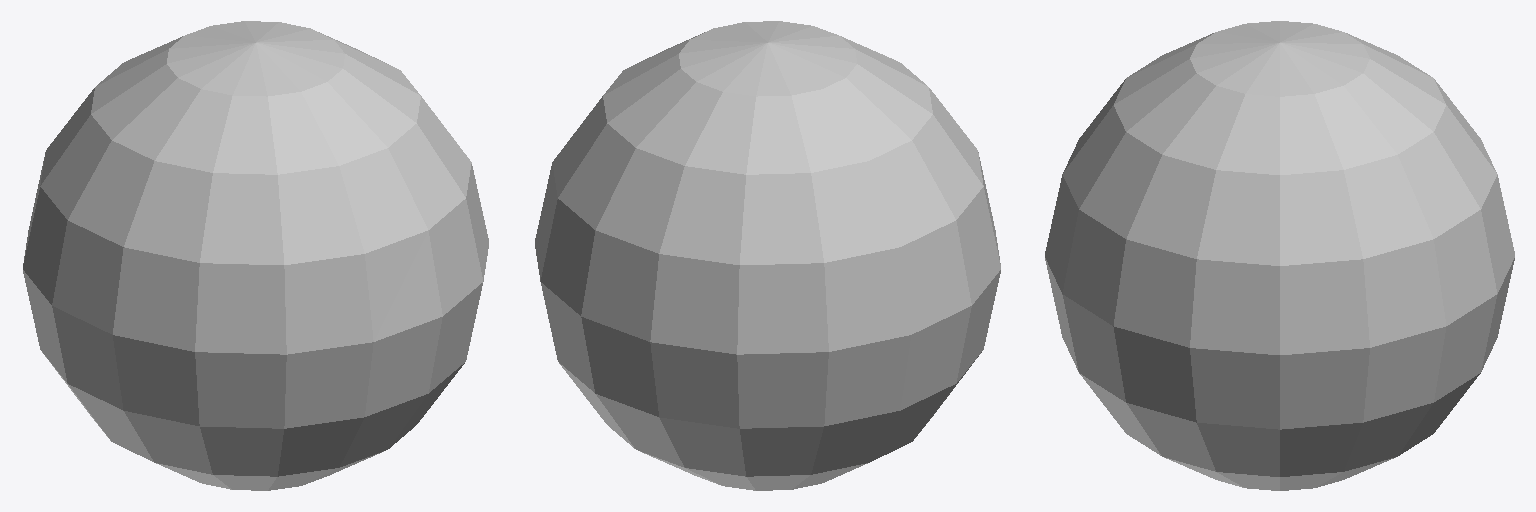
The model's file is bola8.obj.
3 renders of one model, left to right at view 1: azimuth 30°, elevation 25°; view 2: azimuth 150°, elevation 25°; view 3: azimuth 270°, elevation 25°, orthographic.
Parts seen in each view (by area): view 1: POOL_TABLE.032; view 2: POOL_TABLE.032; view 3: POOL_TABLE.032.
Boxes of the visible parts, <box> form: POOL_TABLE.032: <box>23,21,488,490</box>; POOL_TABLE.032: <box>535,21,1000,490</box>; POOL_TABLE.032: <box>1045,21,1514,490</box>.
Size of the model in its own units: 0.0585 by 0.0585 by 0.0585.